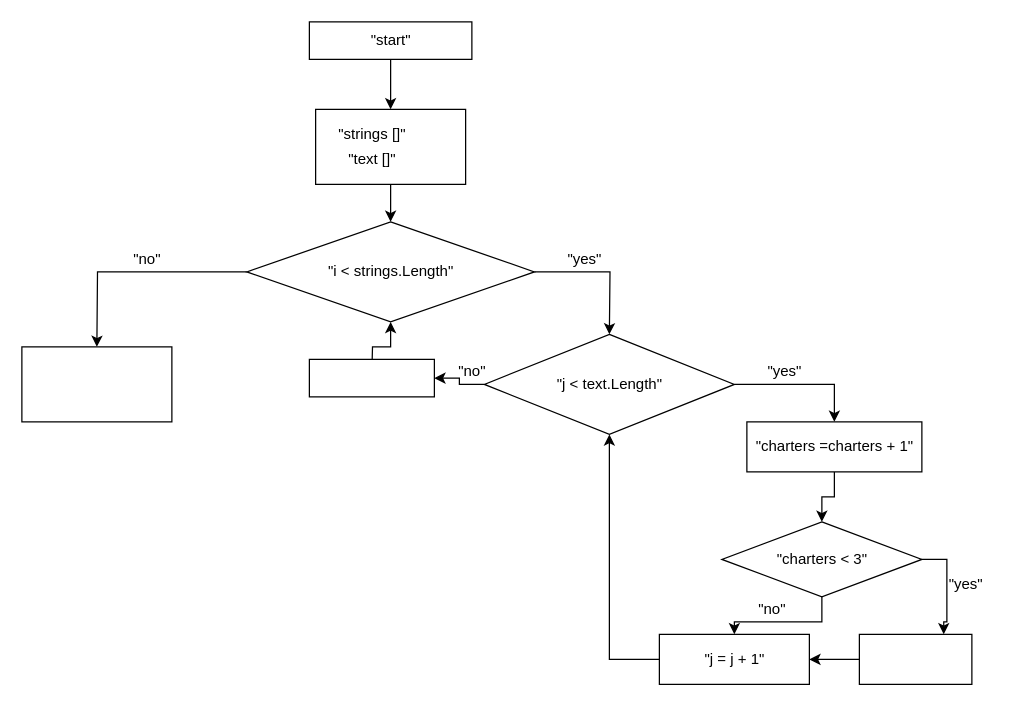
The diagram is 1013 pixels wide and 706 high, and some of its shapes have lost their labels. The shapes that lost their labels are listed below. From the top down, each one's box as (x1, y1, x2, y2) in pixels, then its label:
(21, 346, 172, 422): "END"
(308, 358, 434, 397): "i = i + 1"
(858, 633, 972, 684): "output text"
